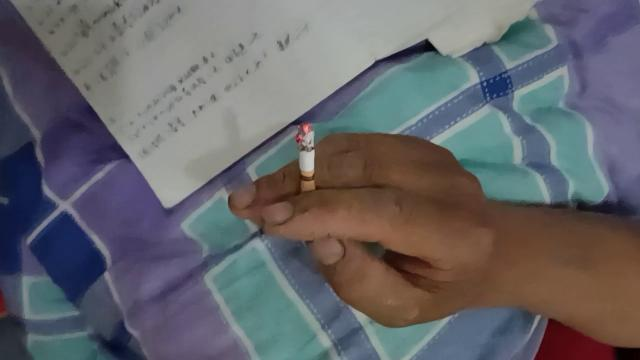Cigarette: (296, 121, 316, 211)
